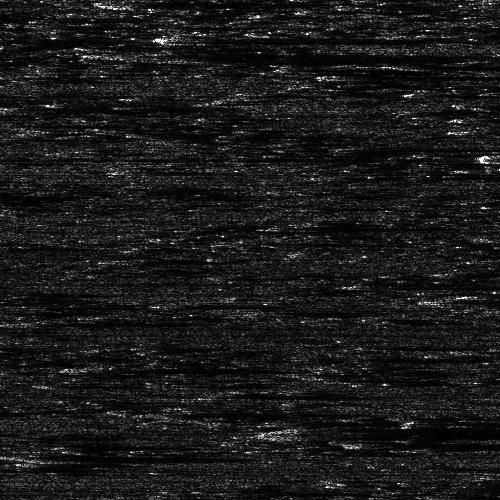object: (233, 420, 368, 441), (375, 148, 500, 167), (65, 49, 200, 64), (21, 360, 156, 375), (134, 29, 249, 44), (178, 388, 271, 399), (0, 317, 91, 328), (399, 293, 500, 302), (0, 451, 61, 462), (296, 69, 369, 78), (328, 440, 391, 449), (0, 103, 60, 112), (106, 0, 169, 6), (106, 256, 159, 263), (367, 62, 440, 67), (144, 303, 185, 308), (268, 224, 299, 227)
shadow: (301, 420, 500, 441), (133, 49, 409, 64), (192, 29, 431, 44), (89, 360, 249, 375), (29, 451, 220, 462), (18, 103, 195, 112), (332, 69, 500, 78), (225, 388, 350, 399), (23, 317, 142, 328), (360, 440, 491, 449), (137, 0, 323, 6), (164, 303, 376, 308), (133, 256, 217, 263), (404, 62, 500, 67), (451, 293, 500, 302), (284, 224, 420, 227), (387, 281, 479, 282)
